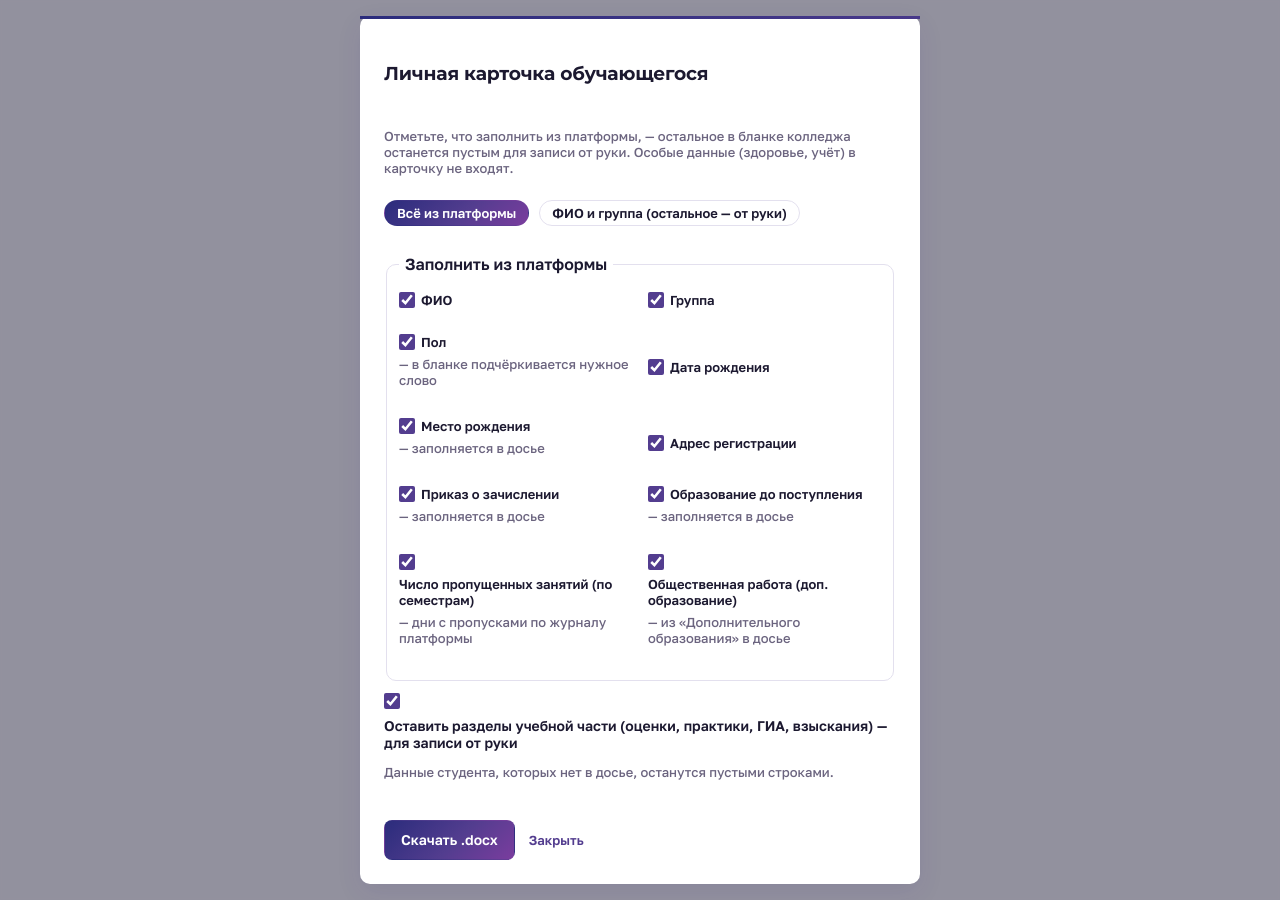
Test: StudentCardModal — личная карточка в Word › ошибка сервера показывается, окно остаётся открытым
Click the button "Скачать .docx" at (449, 840), box [384,820,515,860]
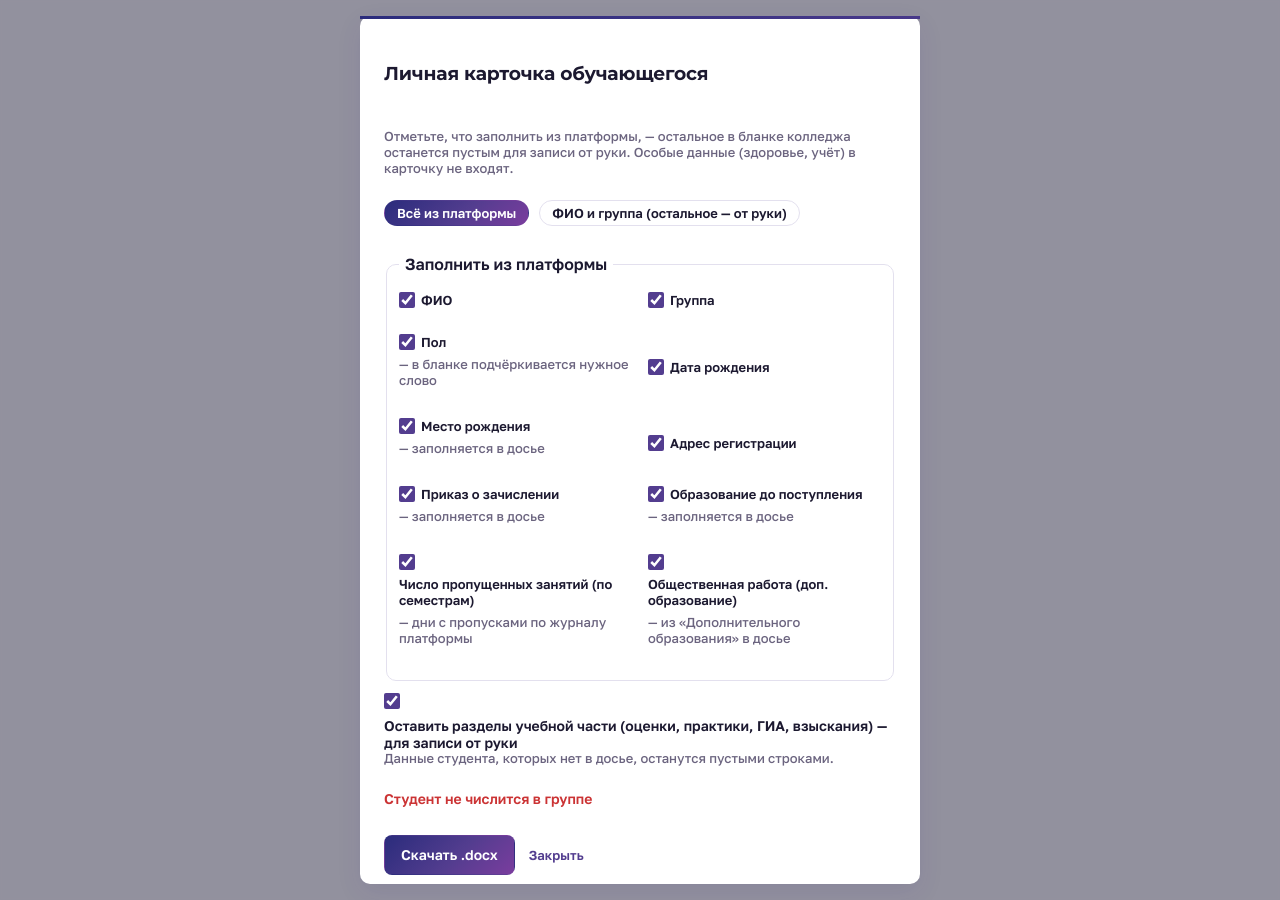
Expected: the text "Студент не числится в группе" is shown, [384,790,592,807]
